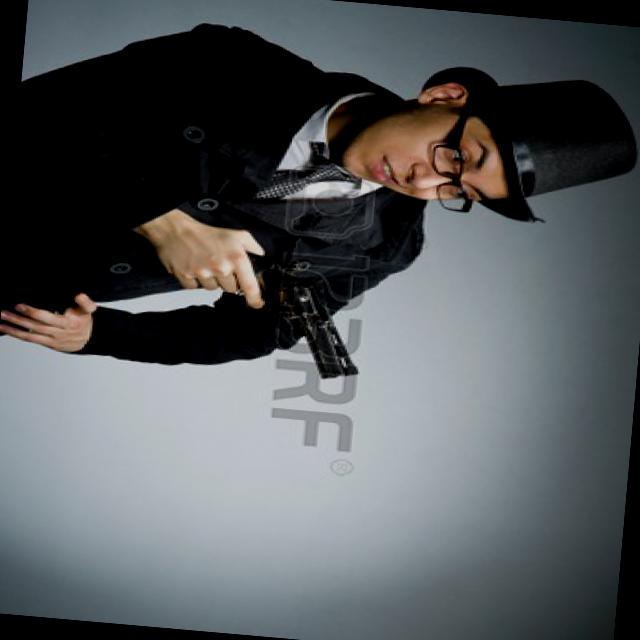handgun: (228, 250, 368, 376)
